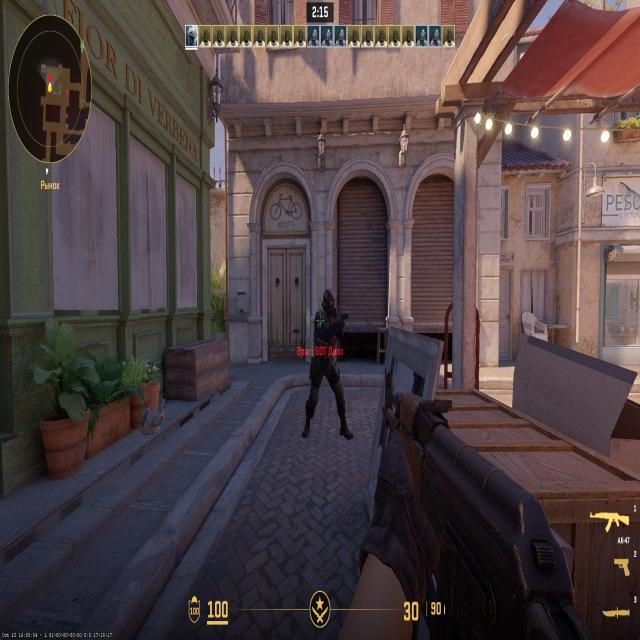CT: (310, 290, 336, 406)
CT_heat: (321, 292, 332, 323)
